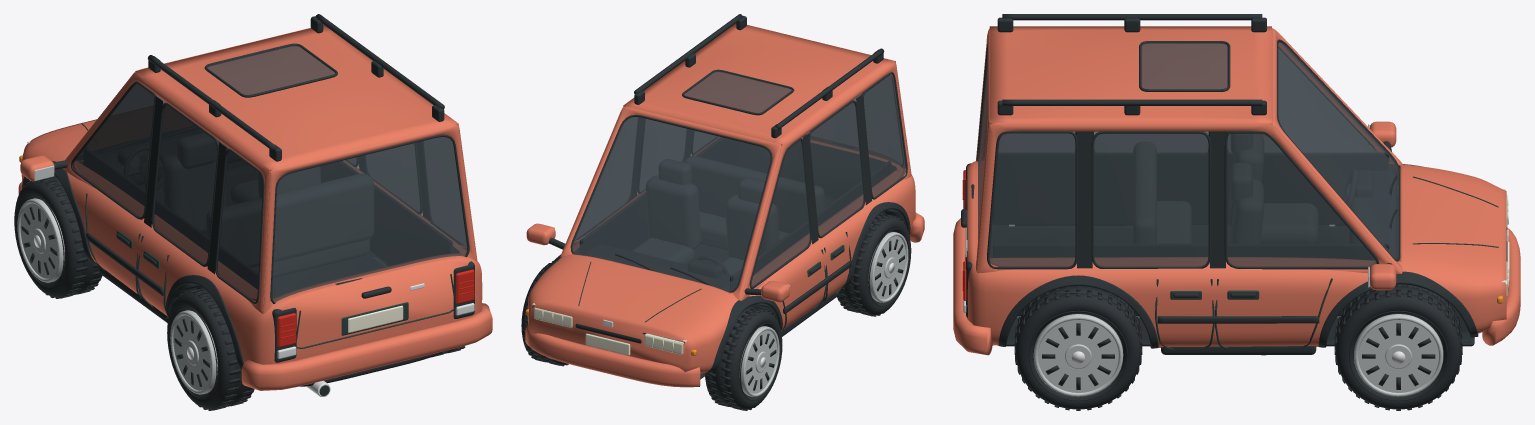
File: picnic.fbx
The picture shows the model from 3 angles, left to right: view 1: azimuth 30°, elevation 25°; view 2: azimuth 150°, elevation 25°; view 3: azimuth 270°, elevation 25°; orthographic projection. The views are drawn at different scales.
Parts seen in each view (by area): view 1: Body, Wheel_FL_Mesh, Wheel_RL_Mesh; view 2: Body, Wheel_FL_Mesh, Wheel_RL_Mesh, Wheel_FR_Mesh; view 3: Body, Wheel_FR_Mesh, Wheel_RR_Mesh.
Boxes of the visible parts, <box> form: Body: <box>18,14,492,396</box>; Wheel_FL_Mesh: <box>14,175,102,298</box>; Wheel_RL_Mesh: <box>167,287,254,410</box>; Body: <box>525,14,924,387</box>; Wheel_FL_Mesh: <box>705,306,782,410</box>; Wheel_RL_Mesh: <box>837,213,911,316</box>; Wheel_FR_Mesh: <box>521,261,568,366</box>; Body: <box>953,14,1520,355</box>; Wheel_FR_Mesh: <box>1334,284,1462,410</box>; Wheel_RR_Mesh: <box>1014,286,1142,410</box>.
Size of the model in its own units: 232 by 203 by 358.
